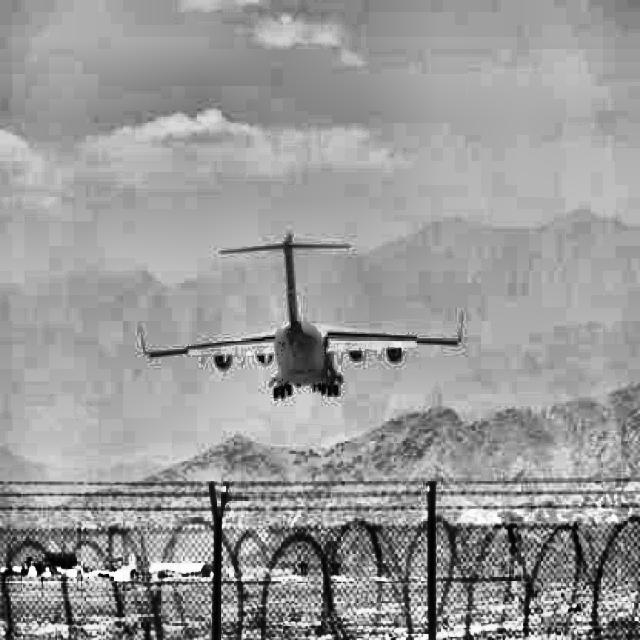C17: (139, 229, 463, 400)
